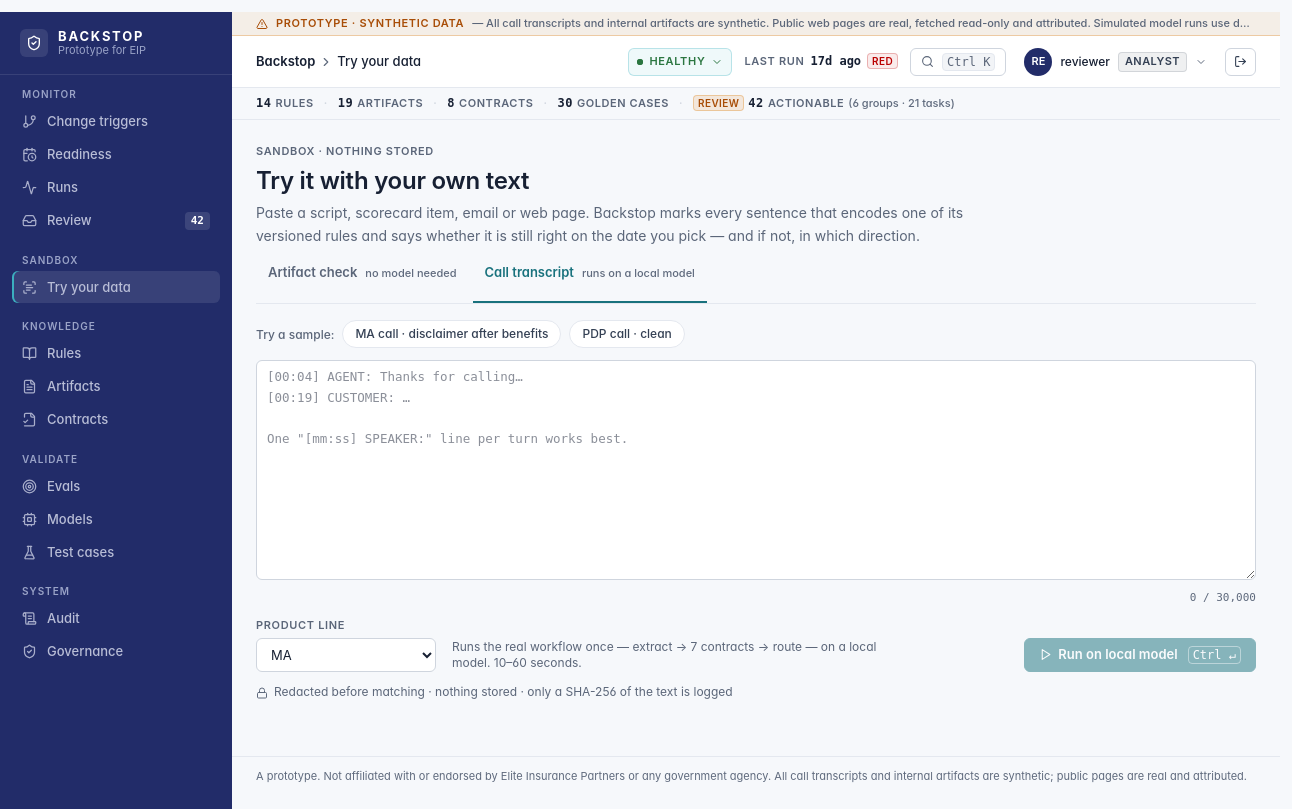
Test case: /try — call transcript › shows an offline status card when no local model is reachable (409)
Click the button "MA call · disclaimer after benefits": (452, 334) [342,320,562,348]
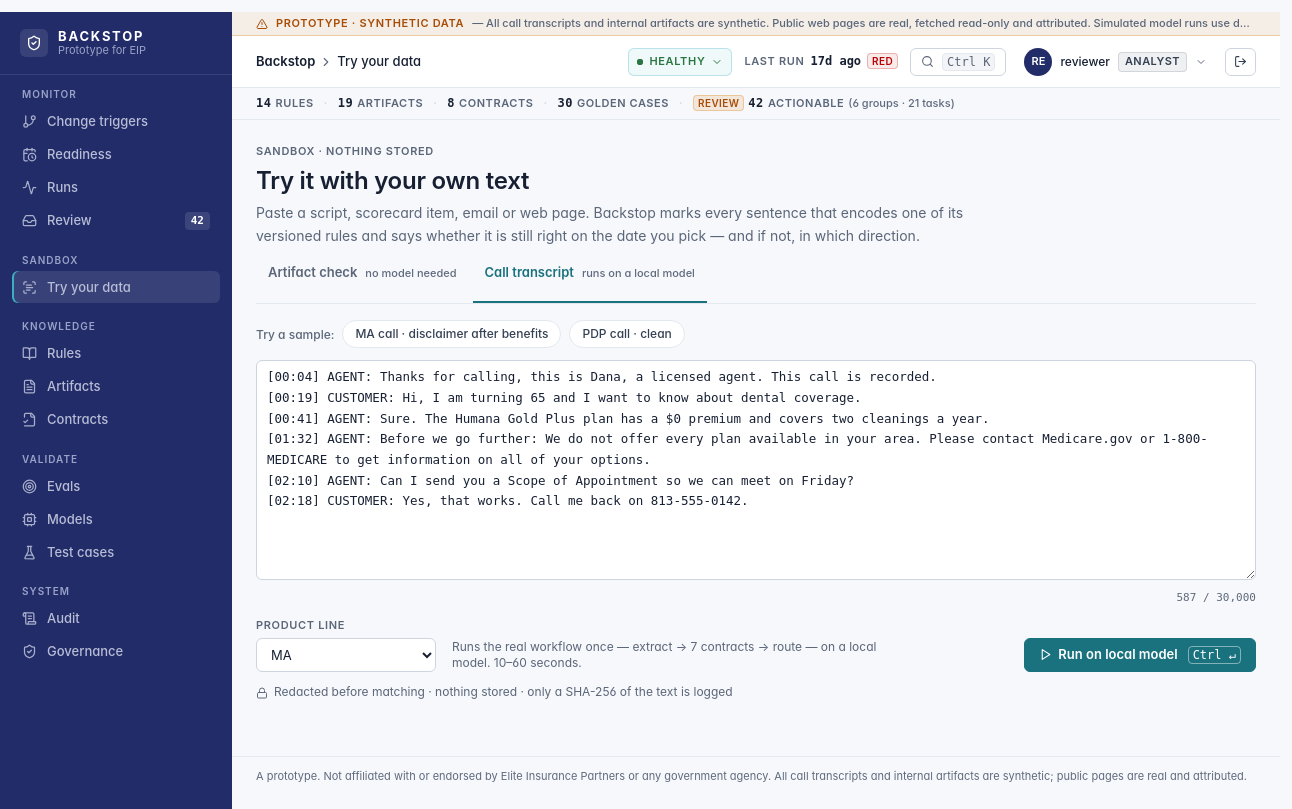
Click the button "Run on local model Ctrl ↵": (1140, 655) [1024,638,1256,672]
(page scrolled)
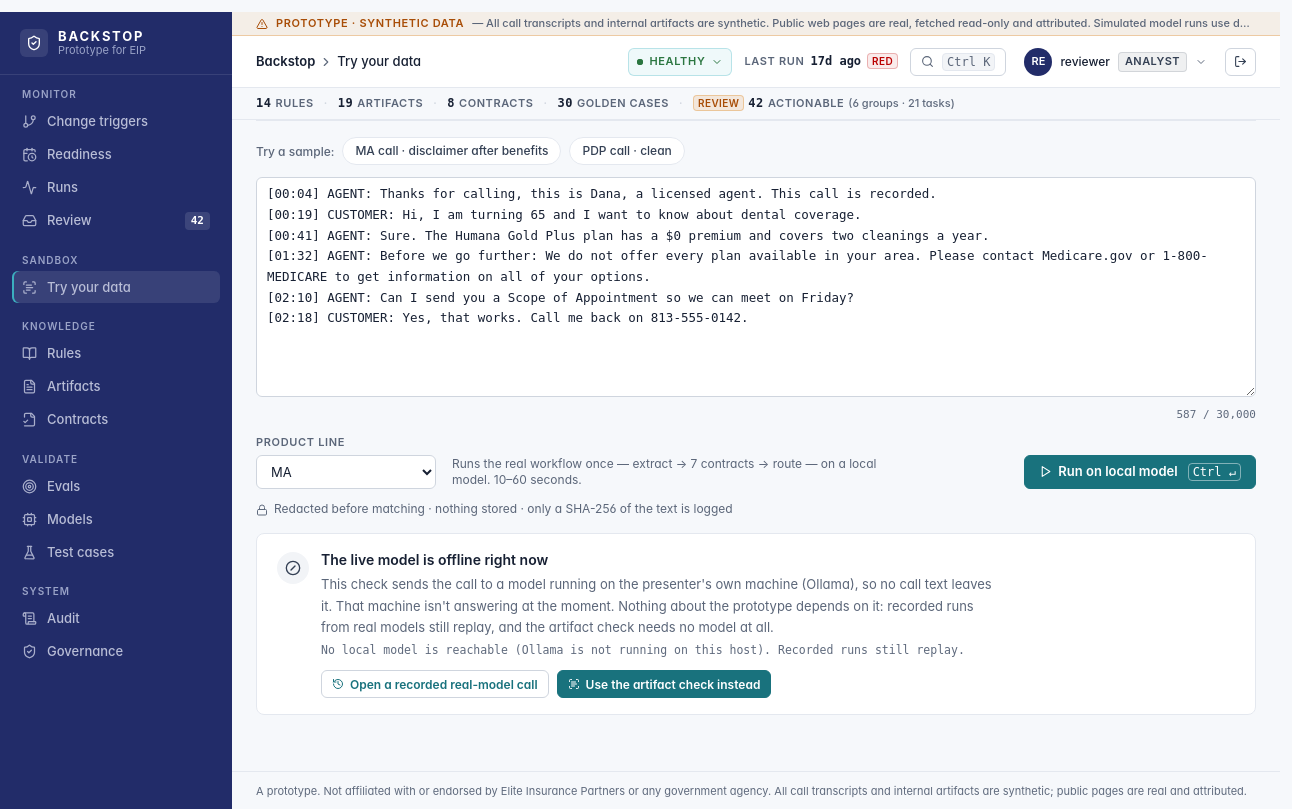
Expected: the text "The live model is offline right now" is shown, [321,551,548,568]
Expected: the link "Open a recorded real-model call" is shown, [321,670,549,698]
Click the button "Use the artifact check instead": (664, 684) [557,670,771,698]
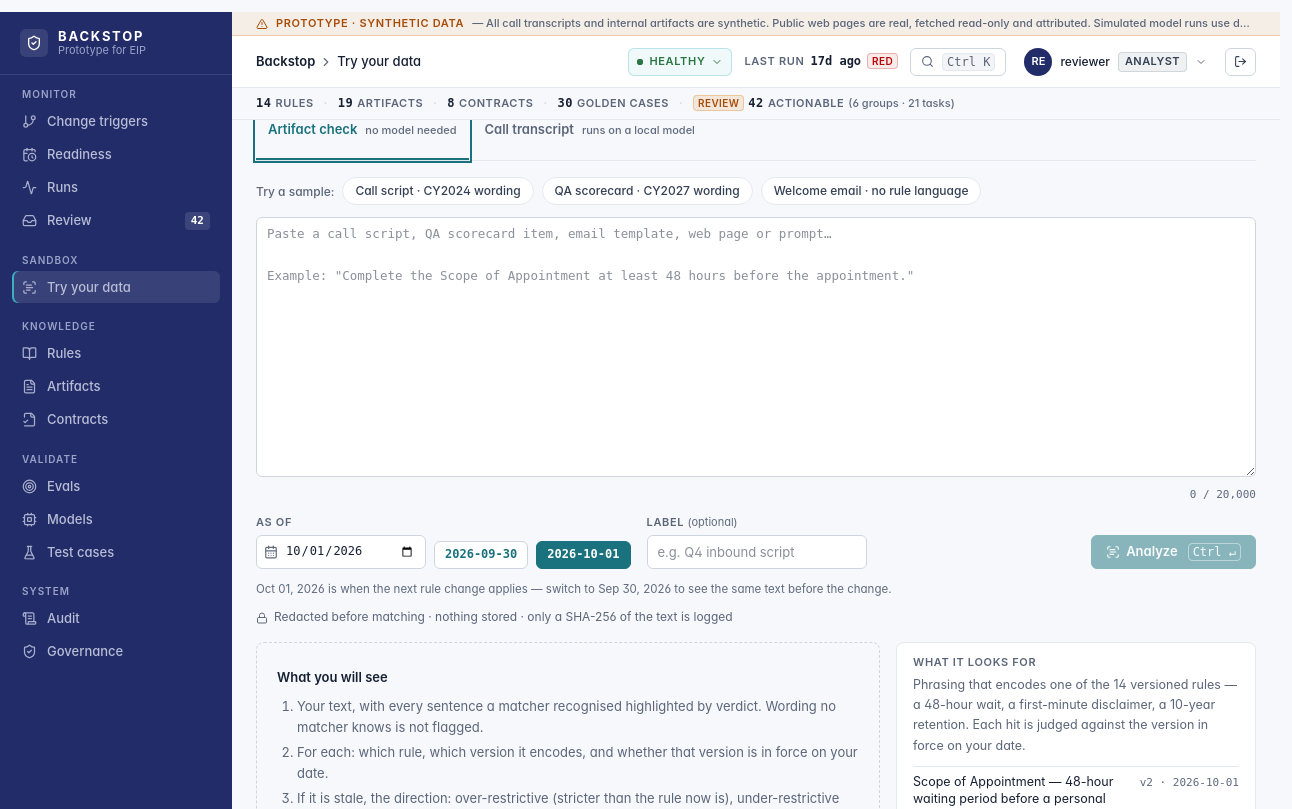
Expected: the text box named "Text to check" is shown, [256,217,1256,477]
